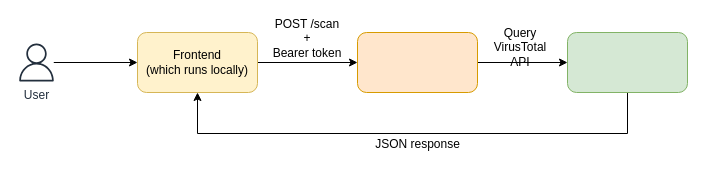
Some shapes in this 705 by 177 pixel diagram are drawn without their labels. The shapes that lost their labels are listed below. From the top down, each one's centre as x and y in pixels, then its label:
point 417,62: Flask API (which runs on Docker or on EC2:8080)
point 627,62: VirusTotal
